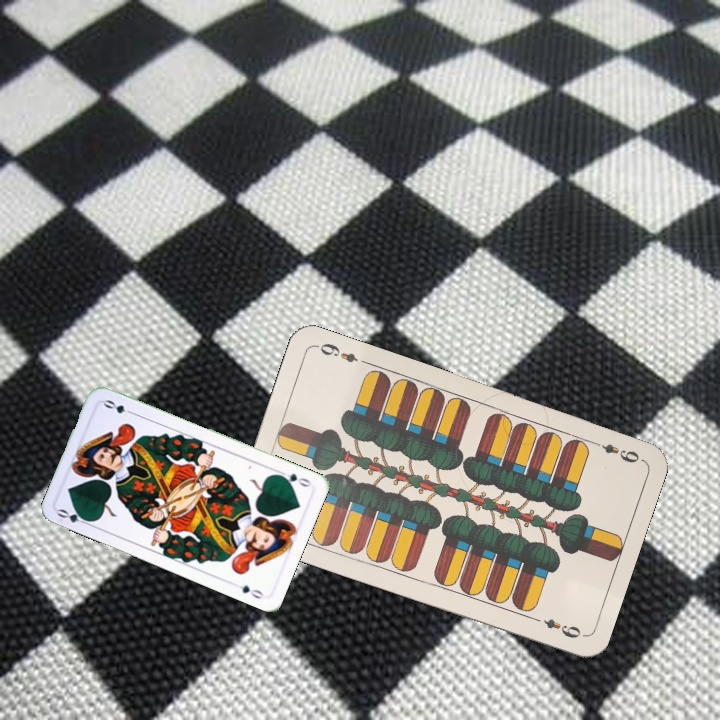E9: (587, 436, 642, 466)
GO: (53, 505, 94, 528), (274, 466, 313, 490)
